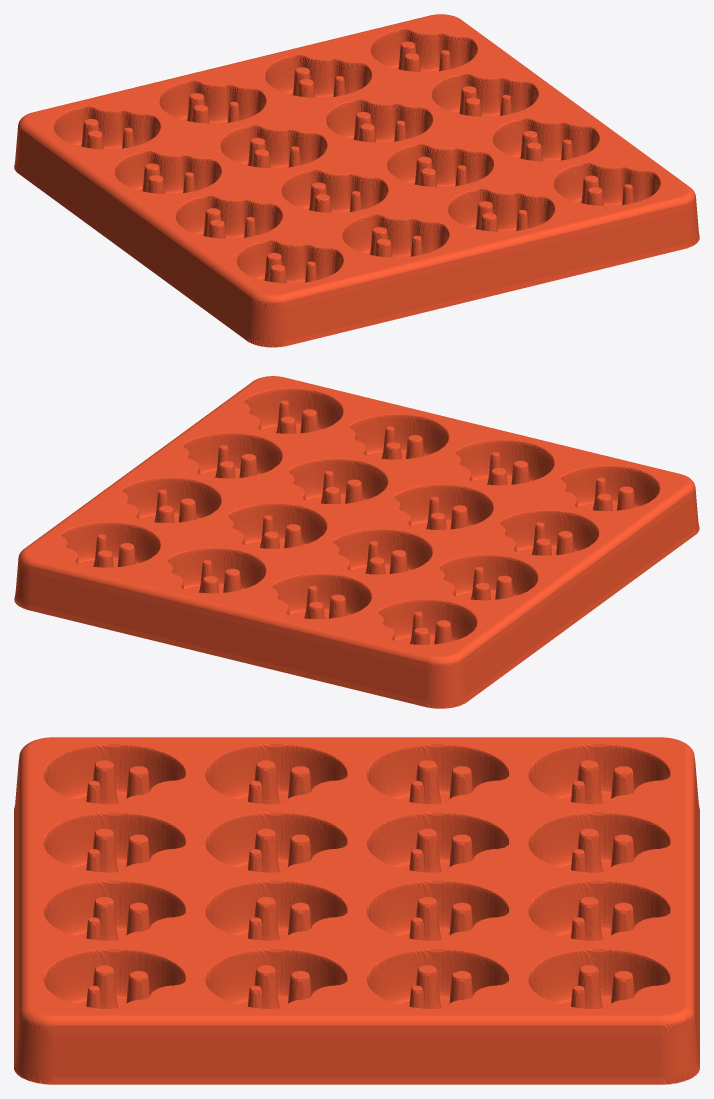
The model's file is mold.glb.
The picture shows the model from 3 angles, top to bottom: view 1: azimuth 30°, elevation 25°; view 2: azimuth 150°, elevation 25°; view 3: azimuth 270°, elevation 25°; orthographic projection. The views are drawn at different scales.
Parts seen in each view (by area): view 1: geometry_0; view 2: geometry_0; view 3: geometry_0.
Part boxes in pixels (x1=…): geometry_0: x1=14, y1=14, x2=699, y2=347; geometry_0: x1=14, y1=376, x2=699, y2=708; geometry_0: x1=14, y1=737, x2=699, y2=1084.
Size of the model in its own units: 0.1569 by 0.0159 by 0.1569.
